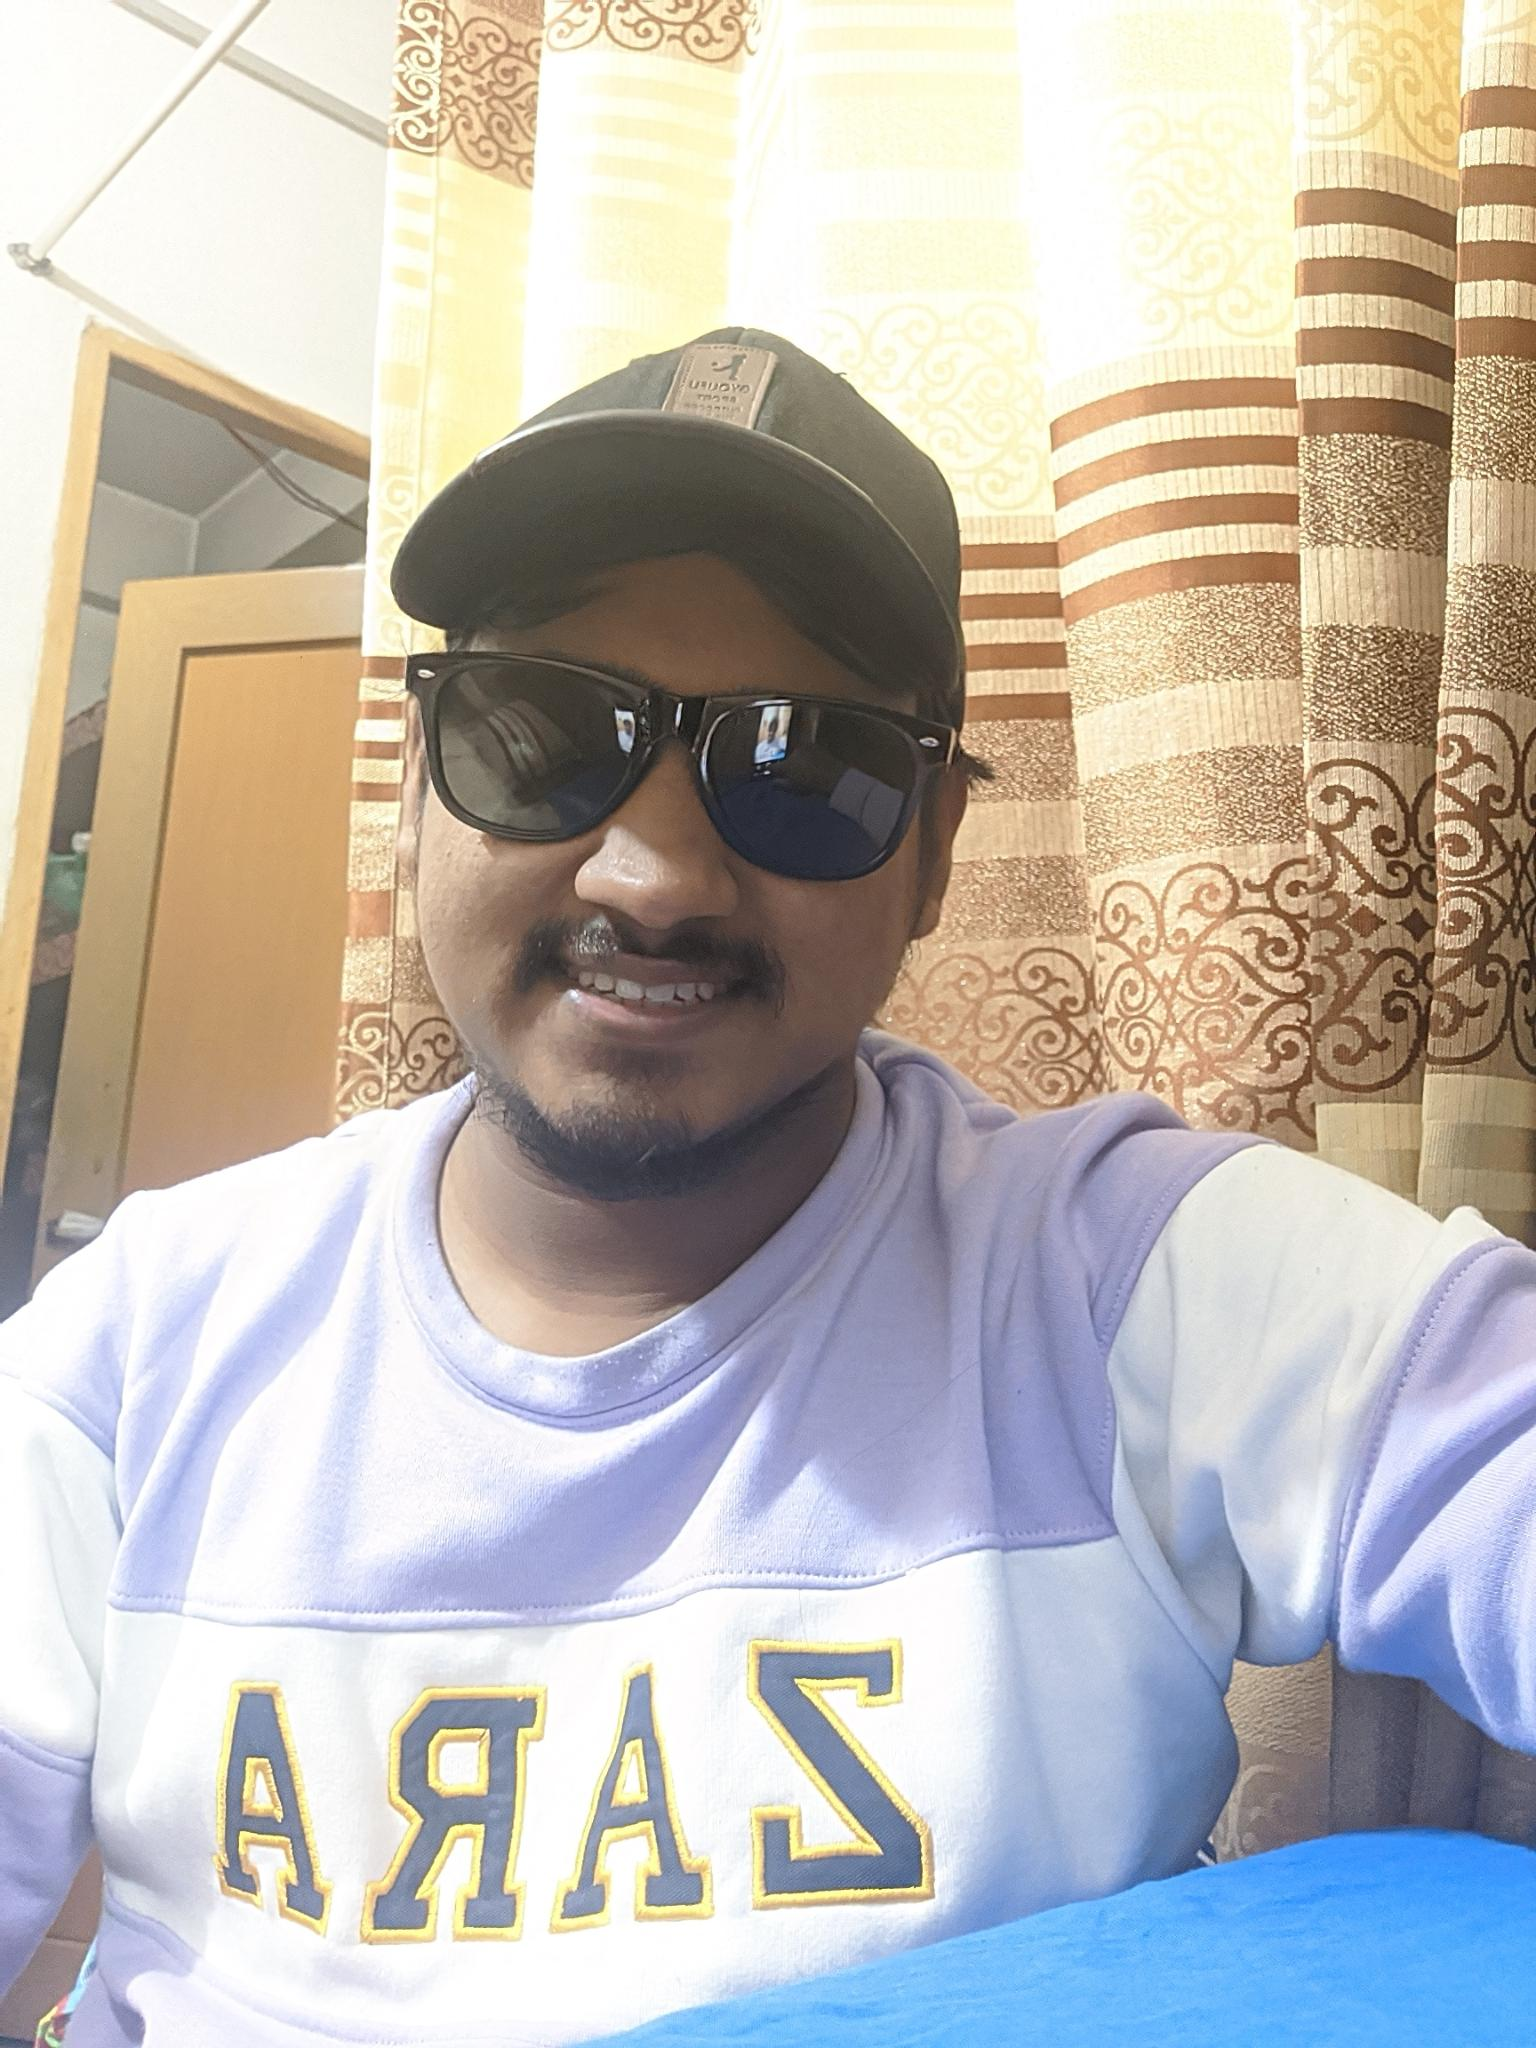Happy: (419, 592, 934, 1176)
